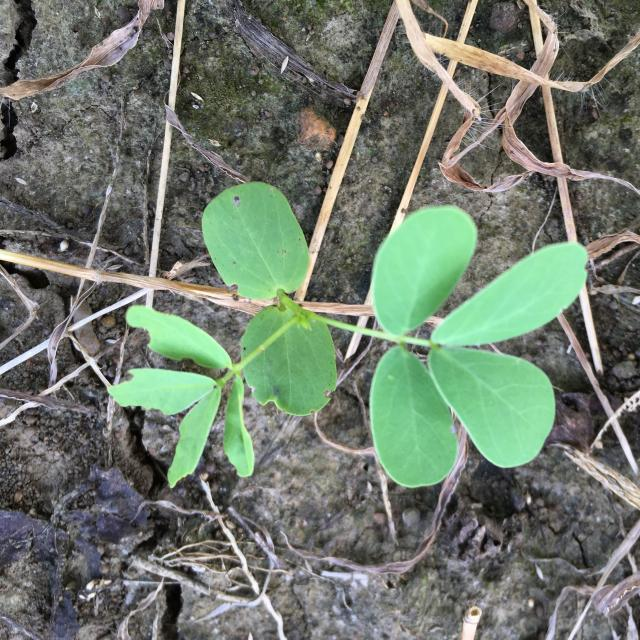Sicklepod: (107, 182, 588, 488)
